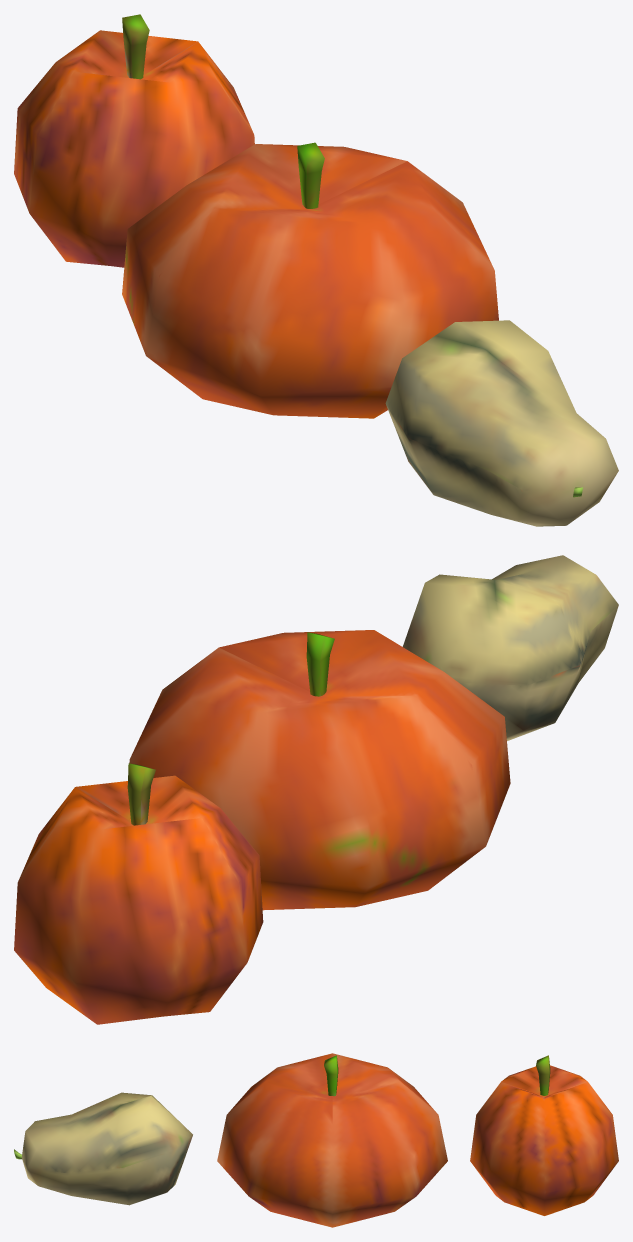
The model's file is pumpkin.fbx.
The picture shows the model from 3 angles, top to bottom: view 1: azimuth 30°, elevation 25°; view 2: azimuth 150°, elevation 25°; view 3: azimuth 270°, elevation 25°; orthographic projection. The views are drawn at different scales.
Parts seen in each view (by area): view 1: dynia_1, dynia_3, dynia_2; view 2: dynia_1, dynia_3, dynia_2; view 3: dynia_1, dynia_3, dynia_2.
Boxes of the visible parts, bbox=[...] form: dynia_1: bbox=[122, 142, 498, 418]; dynia_3: bbox=[14, 14, 254, 267]; dynia_2: bbox=[385, 320, 618, 526]; dynia_1: bbox=[129, 630, 510, 910]; dynia_3: bbox=[14, 763, 263, 1024]; dynia_2: bbox=[402, 555, 618, 740]; dynia_1: bbox=[217, 1053, 447, 1227]; dynia_3: bbox=[470, 1055, 618, 1215]; dynia_2: bbox=[14, 1092, 192, 1205].
Bounding box in the file's own units: 299 × 205 × 784.
